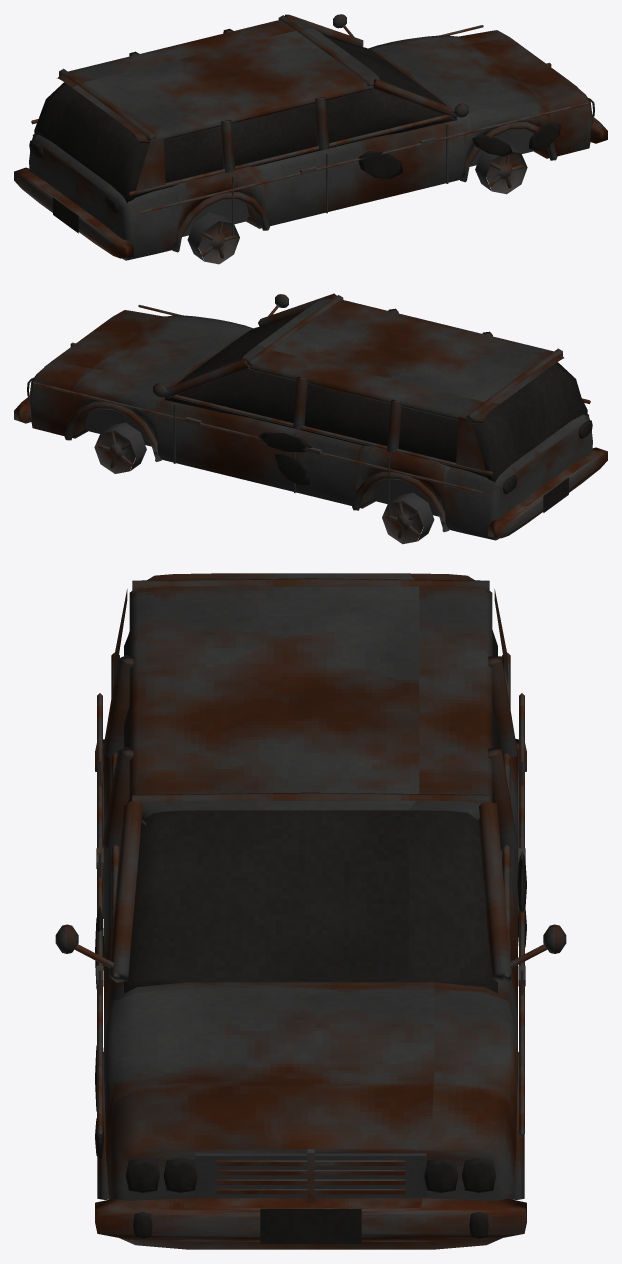
File: ext_burnt_car.glb
3 views of the same model, one above another, from view 1: azimuth 30°, elevation 25°; view 2: azimuth 150°, elevation 25°; view 3: azimuth 270°, elevation 25° (orthographic). The views are drawn at different scales.
Visible parts, largest first — view 1: detail, body-col; view 2: detail, body-col; view 3: detail.
Boxes of the visible parts, x1,y1,x2,y2 form: detail: [14, 14, 607, 264]; body-col: [184, 129, 533, 232]; detail: [14, 293, 607, 544]; body-col: [85, 409, 436, 512]; detail: [55, 573, 566, 1249].
Size of the model in its own units: 4.7 by 1.31 by 2.12.
Materials: 4 (4 with a texture image).
